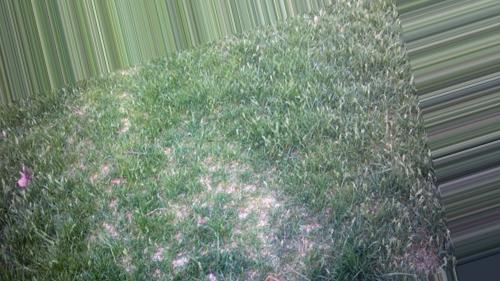patch: (197, 158, 282, 268)
